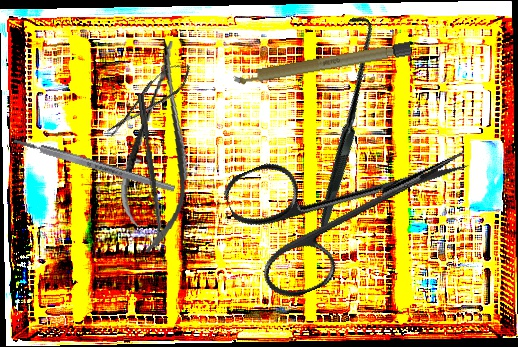Hook Surgical: (231, 11, 452, 229)
Iris Scissors: (219, 93, 491, 308)
Micro Scissor: (113, 37, 205, 256), (99, 56, 198, 142)
Scalpel Handle: (12, 135, 176, 195), (232, 40, 412, 87)
Surgical Spoon: (136, 93, 164, 240)
